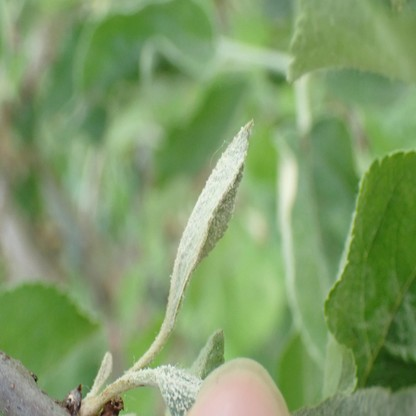powdery_mildew: (164, 120, 257, 312), (360, 277, 416, 360), (293, 385, 416, 415), (149, 358, 203, 415)
